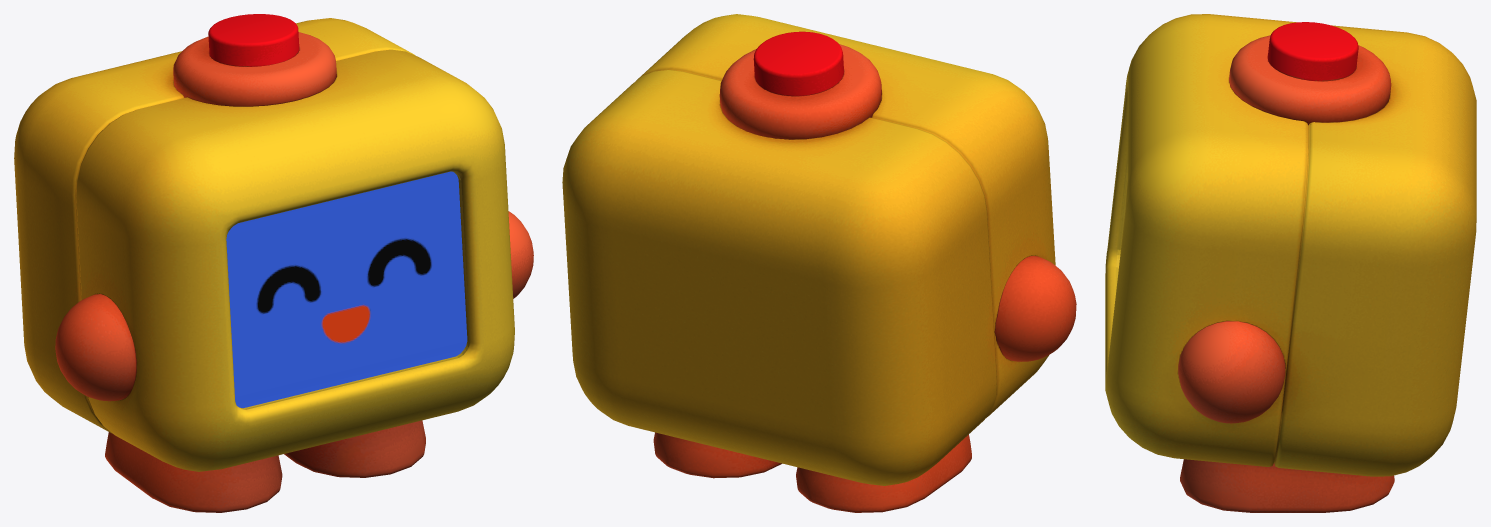
File: oikia.glb
3 renders of one model, left to right at view 1: azimuth 30°, elevation 25°; view 2: azimuth 150°, elevation 25°; view 3: azimuth 270°, elevation 25°, orthographic.
Visible parts, largest first — view 1: Cubo.007; view 2: Cubo.007; view 3: Cubo.007.
Boxes of the visible parts, <box> form: Cubo.007: <box>14,14,533,512</box>; Cubo.007: <box>562,14,1076,512</box>; Cubo.007: <box>1105,14,1476,512</box>.
Bounding box in the file's own units: 0.1107 × 0.0955 × 0.0775.
1 material, 1 textured.
